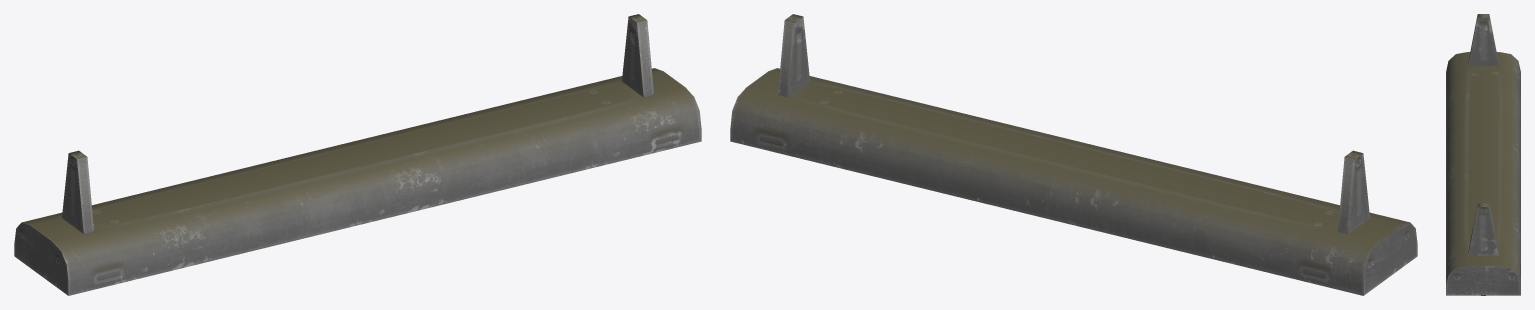
File: SM_LampCeilingA_06.FBX
3 renders of one model, left to right at view 1: azimuth 30°, elevation 25°; view 2: azimuth 150°, elevation 25°; view 3: azimuth 270°, elevation 25°, orthographic. The views are drawn at different scales.
Visible parts, largest first — view 1: SM_LampCeilingA_06; view 2: SM_LampCeilingA_06; view 3: SM_LampCeilingA_06.
Boxes of the visible parts, box(x1,y1,x2,y2) form: SM_LampCeilingA_06: box(14, 14, 701, 295); SM_LampCeilingA_06: box(730, 14, 1417, 295); SM_LampCeilingA_06: box(1446, 14, 1520, 295).
Size of what is drawn, in the model's own units: 200 by 29.56 by 38.04.
